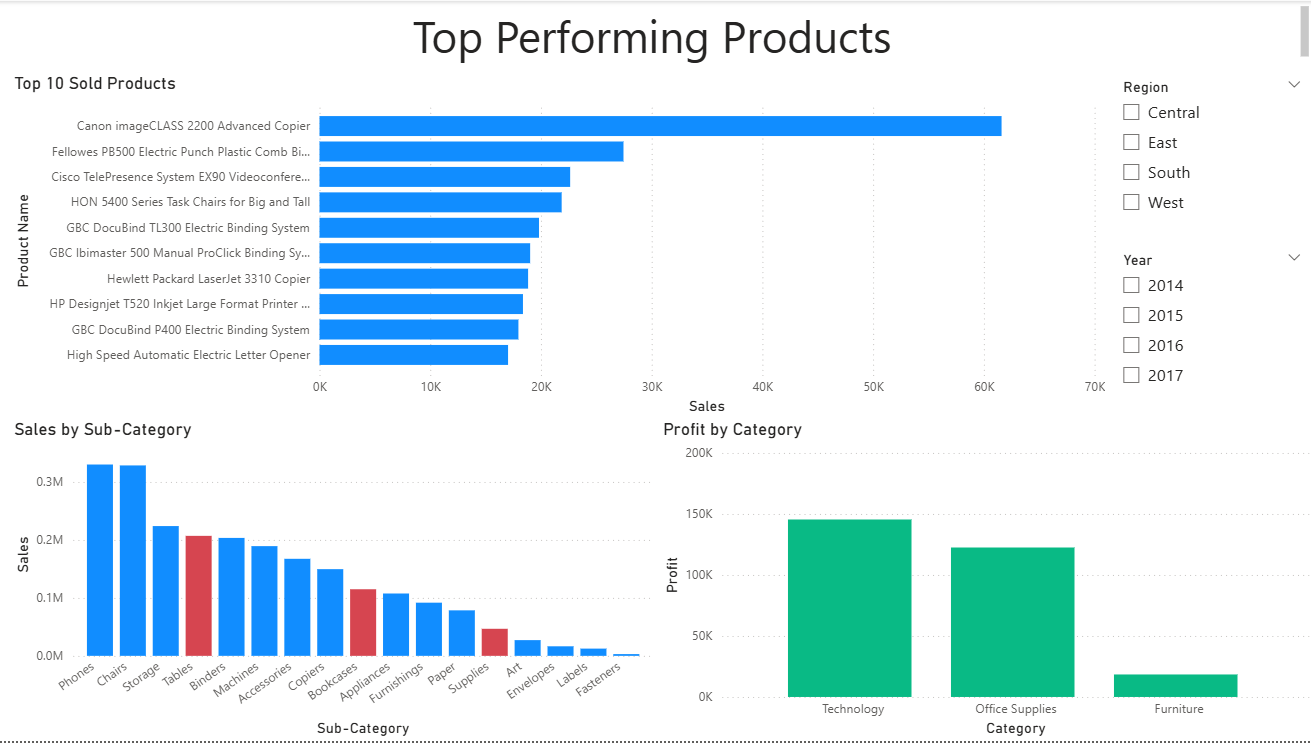

The dashboard page shown, as its layout file describes it:
{"tool":"powerbi","page":{"name":"Products","canvas":[1280,720],"ordinal":1},"visuals":[{"type":"clusteredBarChart","title":"Top 10 Sold Products","fields":{"Category":["DimProduct.Product Name"],"Y":["Sum(FactOrders.Sales)"]},"box":[9.7,70,1070.9,336.5],"z":0},{"type":"clusteredColumnChart","title":"Sales by Sub-Category","fields":{"Category":["DimProduct.Sub-Category"],"Y":["Sum(FactOrders.Sales)"]},"box":[9.4,406.3,631.2,313.7],"z":1000},{"type":"clusteredColumnChart","title":"Profit by Category","fields":{"Category":["DimProduct.Category"],"Y":["Sum(FactOrders.Profit)"]},"box":[640.6,406.3,638.7,313.7],"z":2000},{"type":"slicer","fields":{"Values":["DimDate.Year"]},"box":[1080.6,238.3,198.4,168.3],"z":3000},{"type":"slicer","fields":{"Values":["DimRegion.Region"]},"box":[1080.6,70,198.4,168.3],"z":4000},{"type":"textbox","box":[0,0,1279,70],"z":5000}]}

Visuals, with their boxes in screenshot pixels (x1, y1, x2, y2), scaled from the page's 1280x720 canvas onto the 1311x744 screenshot:
"Top 10 Sold Products" clusteredBarChart: <region>10, 72, 1107, 420</region>
"Sales by Sub-Category" clusteredColumnChart: <region>10, 420, 656, 743</region>
"Profit by Category" clusteredColumnChart: <region>656, 420, 1310, 743</region>
slicer - DimDate.Year: <region>1107, 246, 1310, 420</region>
slicer - DimRegion.Region: <region>1107, 72, 1310, 246</region>
textbox: <region>0, 0, 1310, 72</region>
